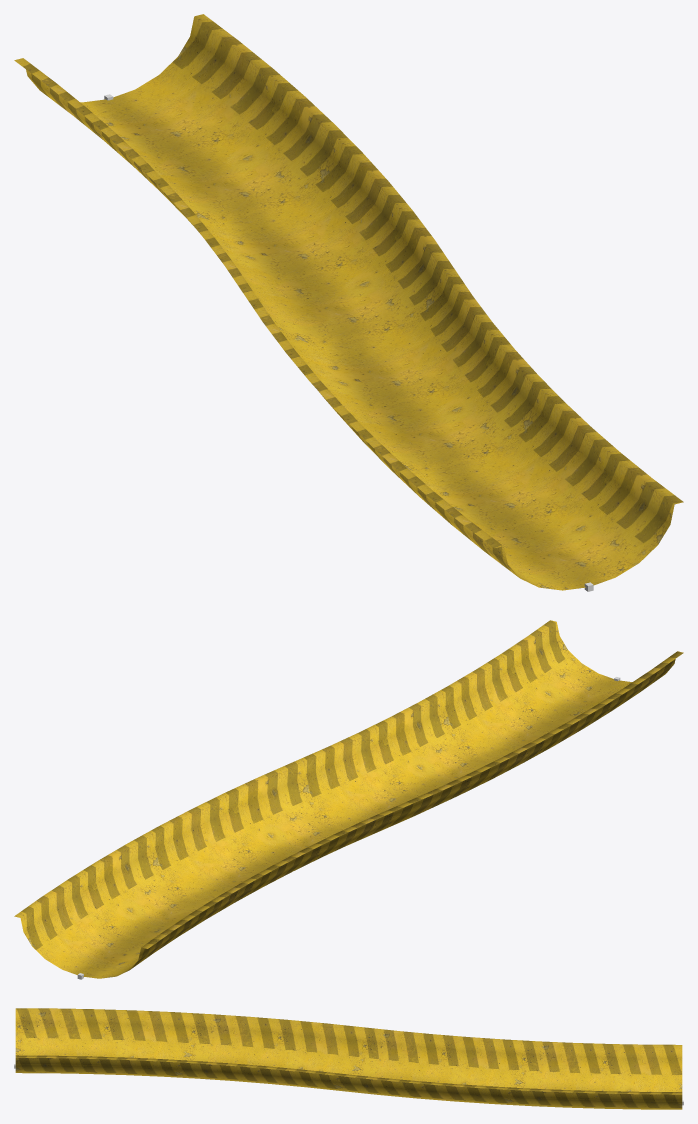
Rendered from roadShift.right1.fbx.
The picture shows the model from 3 angles, top to bottom: view 1: azimuth 30°, elevation 25°; view 2: azimuth 150°, elevation 25°; view 3: azimuth 270°, elevation 25°; orthographic projection. The views are drawn at different scales.
Visible parts, largest first — view 1: MESH roadShift.right1; view 2: MESH roadShift.right1; view 3: MESH roadShift.right1.
Part boxes in pixels (x1,y1,x2,y2): MESH roadShift.right1: (14,14,683,590); MESH roadShift.right1: (14,620,683,978); MESH roadShift.right1: (15,1008,682,1109).
Size of what is drawn, in the model's own units: 2943 by 553 by 9650.
